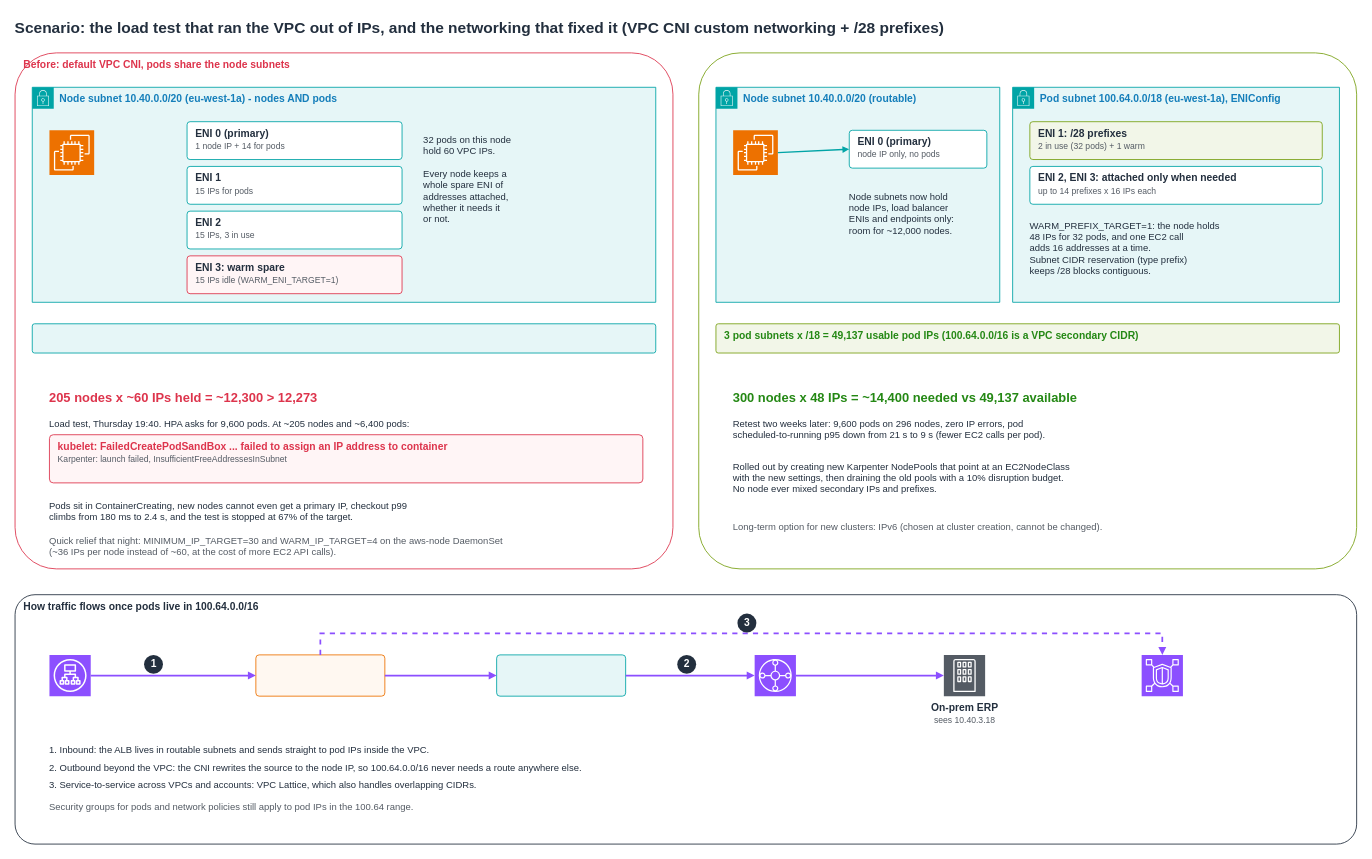
Image size: 1372x859. Some labels were removed from this diagram. Here are the shapes that lost their labels. From the top down, the box of each, then its label:
(49, 129, 94, 175): m7g.2xlarge node 4 ENIs x 15 IPv4 max 58 pods
(732, 129, 778, 175): same node type maxPods = 110 (RESERVED_ENIS=1)
(698, 52, 1357, 569): After: pods get their own non-routable range, in /28 prefixes
(31, 323, 656, 353): 3 node subnets x /20 = 12,273 usable IPs, shared by nodes and pods
(49, 654, 91, 696): ALB in public subnets target type: ip
(255, 654, 385, 696): pod 100.64.21.37 checkout
(496, 654, 626, 696): node 10.40.3.18 iptables SNAT
(754, 654, 796, 696): Transit Gateway
(1141, 654, 1183, 696): VPC Lattice no routing needed
